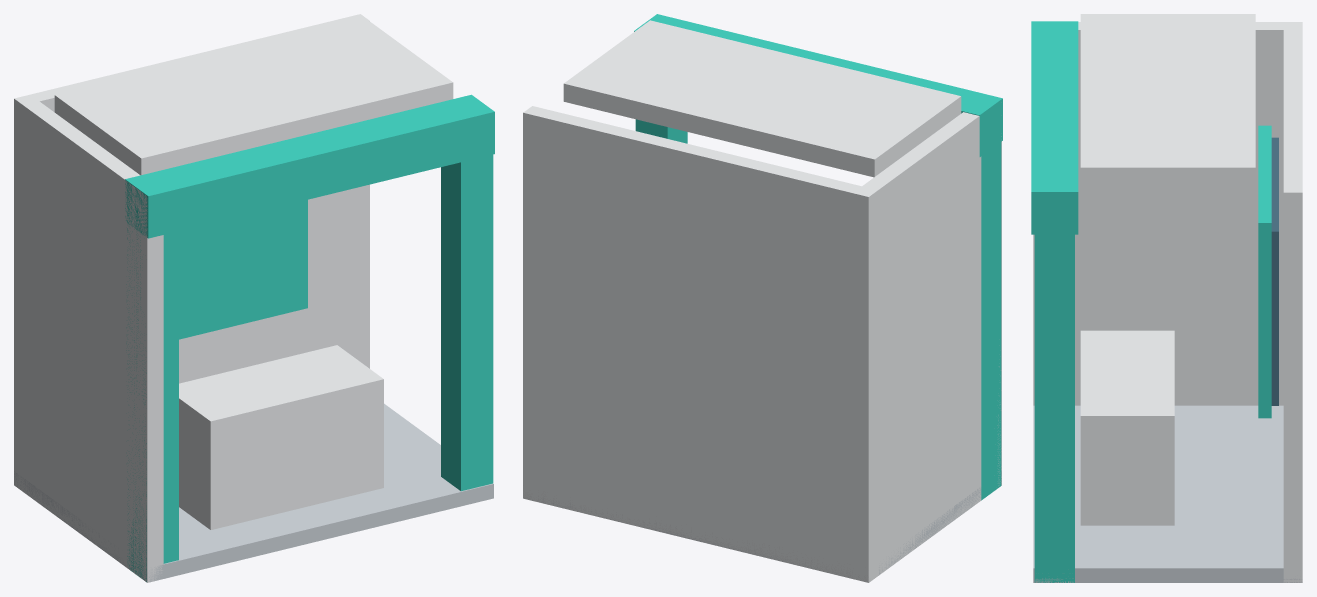
3 renders of one model, left to right at view 1: azimuth 30°, elevation 25°; view 2: azimuth 150°, elevation 25°; view 3: azimuth 270°, elevation 25°, orthographic.
Visible parts, largest first — view 1: Exhibition Booth Concept; view 2: Exhibition Booth Concept; view 3: Exhibition Booth Concept.
Boxes of the visible parts, x1,y1,x2,y2 form: Exhibition Booth Concept: [14, 14, 494, 582]; Exhibition Booth Concept: [523, 14, 1002, 582]; Exhibition Booth Concept: [1031, 14, 1302, 582].
Bounding box in the file's own units: 3 × 3.34 × 2.01.
